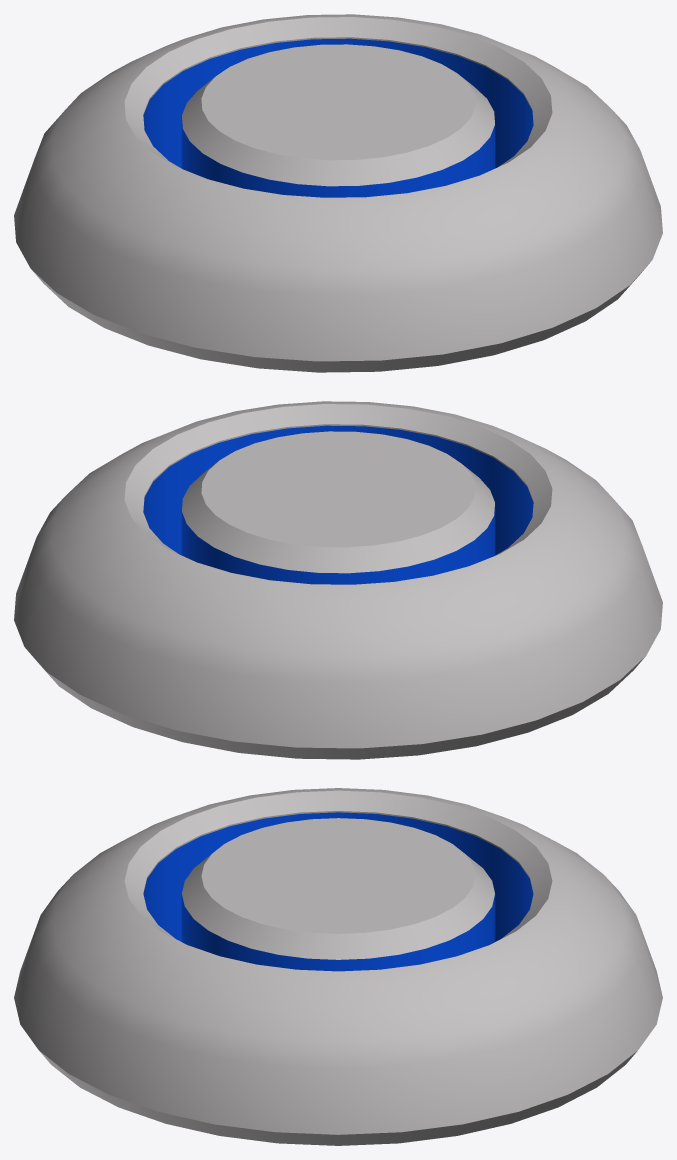
Rendered from jump_pad.glb.
The picture shows the model from 3 angles, top to bottom: view 1: azimuth 30°, elevation 25°; view 2: azimuth 150°, elevation 25°; view 3: azimuth 270°, elevation 25°; orthographic projection.
Parts seen in each view (by area): view 1: Cylinder; view 2: Cylinder; view 3: Cylinder.
Part boxes in pixels (box(x1,y1,x2,y2)): Cylinder: box(14, 14, 662, 372); Cylinder: box(14, 401, 662, 759); Cylinder: box(14, 788, 662, 1145).
Bounding box in the file's own units: 3.32 × 0.7831 × 3.32.
